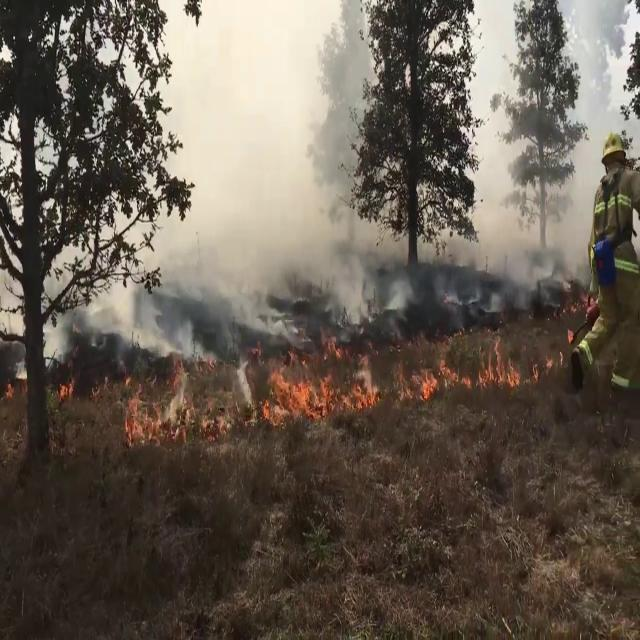Fire: (119, 350, 201, 443), (262, 356, 342, 424), (476, 326, 522, 389)
Smoke: (144, 0, 408, 323), (461, 94, 616, 314), (408, 352, 472, 408)
